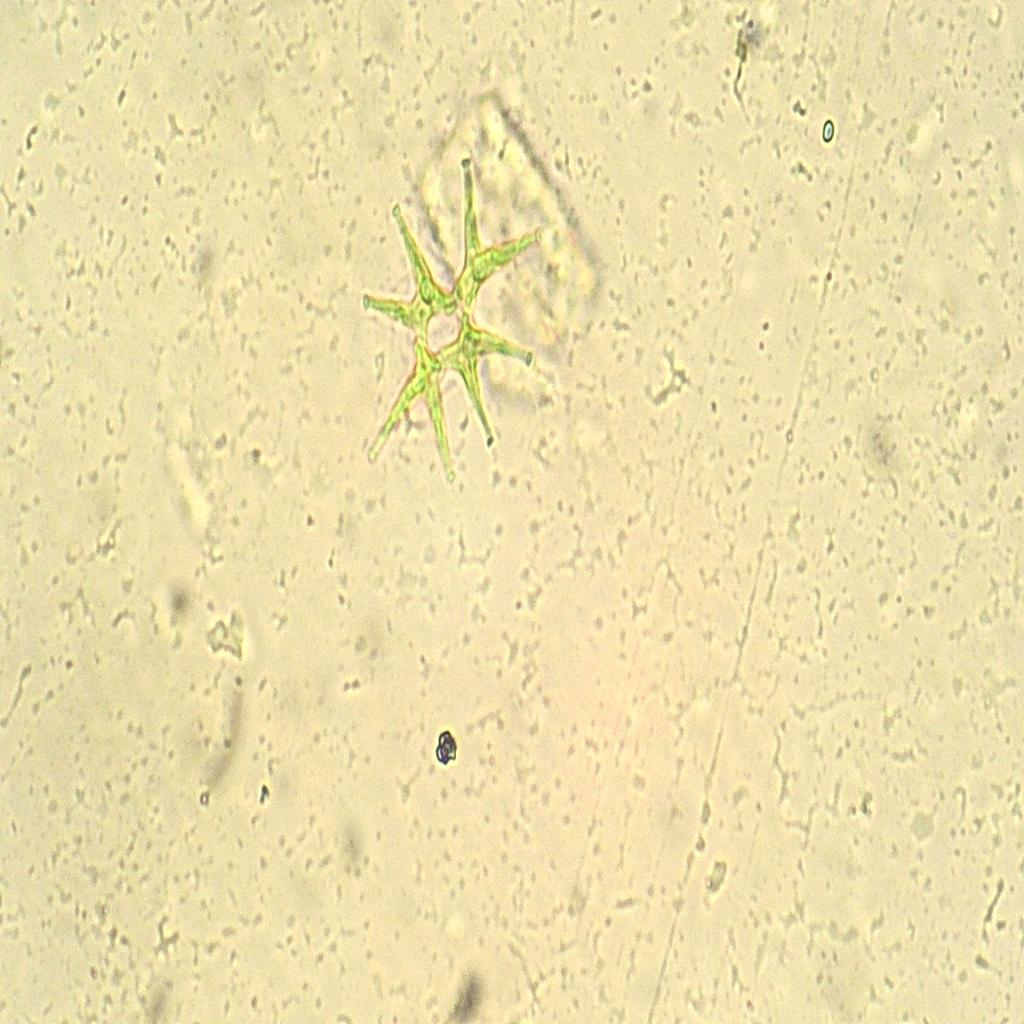Pediastrum_75FI: (350, 115, 546, 511)
